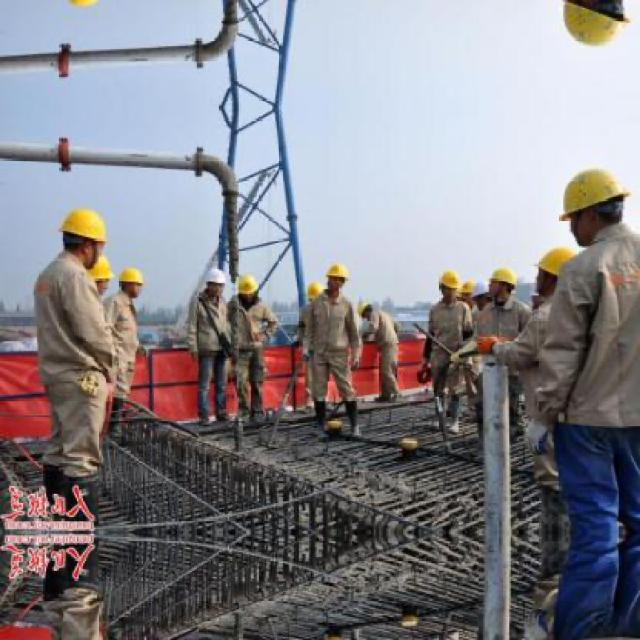helmet: (554, 156, 631, 247), (553, 0, 631, 58), (57, 202, 111, 270), (534, 240, 578, 292), (488, 260, 522, 303), (83, 249, 112, 297), (119, 265, 146, 306), (323, 262, 348, 292), (237, 271, 261, 300), (471, 278, 494, 308), (206, 263, 226, 292), (443, 268, 462, 297), (354, 295, 375, 317)
